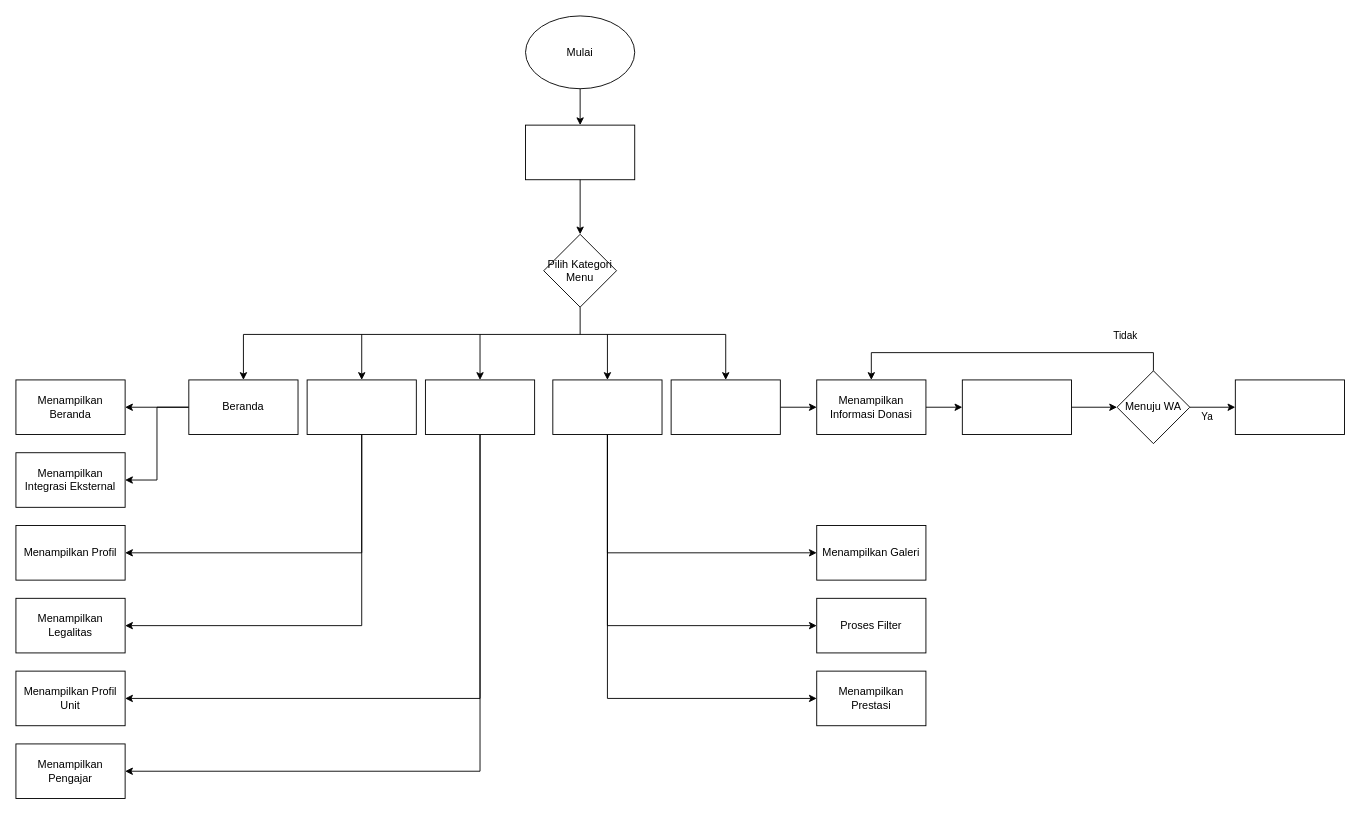
Image size: 1360x814. Some labels were removed from this diagram. Each missing label, with the centre of its shape:
Alur Donasi: [725,407]
Kegiatan & Prestasi: [607,407]
Klik tombol Direct ke aplikasi eksternal: [1016,407]
Membuka Aplikasi Eksternal: [1289,407]
Menampilkan Halaman Beranda: [580,152]
Pendidikan: [480,407]
Tentang: [361,407]
